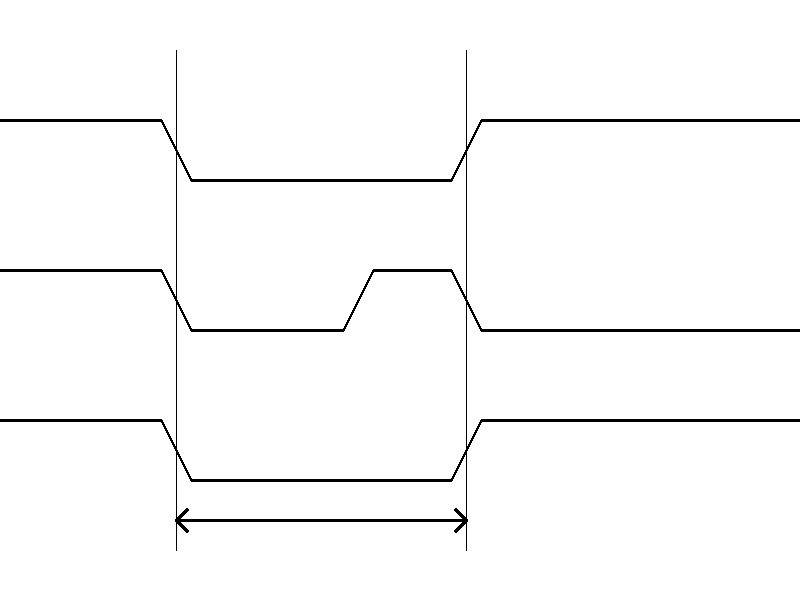double_arrow: (176, 505, 466, 535)
